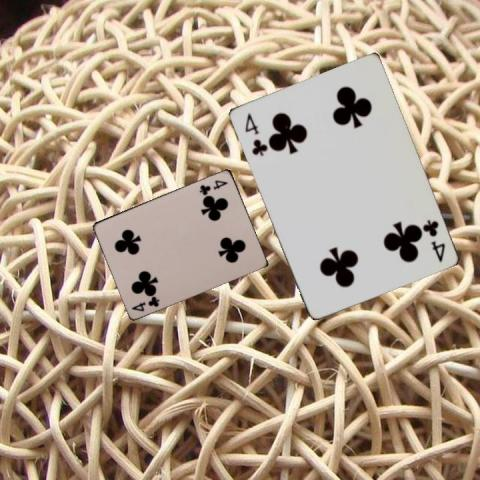4c: (241, 110, 268, 157), (419, 216, 446, 263), (128, 292, 160, 313), (196, 177, 228, 196)
